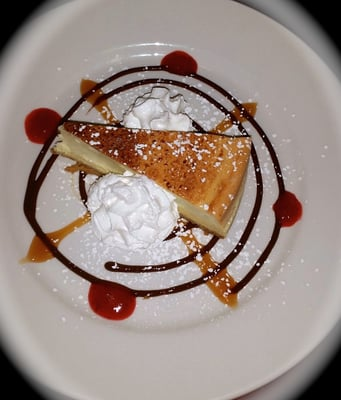sushi: (59, 122, 252, 238)
